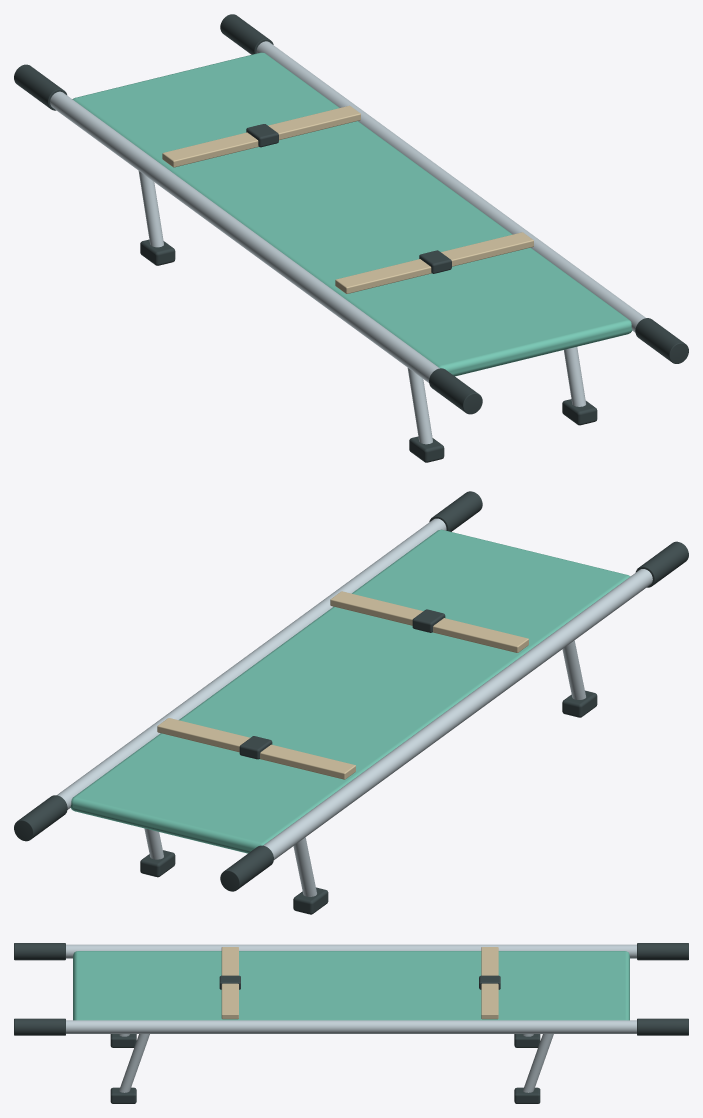
Rendered from rescue_stretcher.glb.
The picture shows the model from 3 angles, top to bottom: view 1: azimuth 30°, elevation 25°; view 2: azimuth 150°, elevation 25°; view 3: azimuth 270°, elevation 25°; orthographic projection. The views are drawn at different scales.
Visible parts, largest first — view 1: Fabric_Bed, Carry_Rail, Carry_Rail_2, Safety_Belt, Safety_Belt_2, Belt_Half, Belt_Half_2, Handle_Grip_2, Handle_Grip_4, Handle_Grip, Handle_Grip_3, Folding_Leg (+2 smaller); view 2: Fabric_Bed, Carry_Rail, Carry_Rail_2, Safety_Belt, Safety_Belt_2, Belt_Half_2, Belt_Half, Handle_Grip, Handle_Grip_3, Handle_Grip_2, Handle_Grip_4, Folding_Leg (+4 smaller); view 3: Fabric_Bed, Carry_Rail_2, Carry_Rail, Handle_Grip_3, Handle_Grip_4, Handle_Grip, Handle_Grip_2, Folding_Leg_2, Folding_Leg_4, Belt_Half, Belt_Half_2, Safety_Belt (+5 smaller).
Boxes of the visible parts, x1,y1,x2,y2 form: Fabric_Bed: [72, 52, 632, 376]; Carry_Rail: [50, 91, 439, 382]; Carry_Rail_2: [256, 41, 645, 332]; Safety_Belt: [162, 132, 258, 167]; Safety_Belt_2: [335, 259, 431, 293]; Belt_Half: [268, 105, 360, 139]; Belt_Half_2: [441, 232, 533, 266]; Handle_Grip_2: [429, 368, 482, 414]; Handle_Grip_4: [635, 318, 688, 363]; Handle_Grip: [14, 64, 66, 110]; Handle_Grip_3: [220, 14, 273, 54]; Folding_Leg: [138, 171, 163, 247]; Fabric_Bed: [70, 529, 630, 853]; Carry_Rail: [263, 569, 652, 859]; Carry_Rail_2: [57, 518, 446, 809]; Safety_Belt: [260, 744, 355, 779]; Safety_Belt_2: [432, 618, 528, 652]; Belt_Half_2: [330, 591, 423, 625]; Belt_Half: [157, 718, 250, 752]; Handle_Grip: [220, 845, 273, 891]; Handle_Grip_3: [14, 795, 67, 841]; Handle_Grip_2: [635, 541, 688, 587]; Handle_Grip_4: [429, 491, 482, 531]; Folding_Leg: [293, 837, 316, 896]; Fabric_Bed: [73, 951, 629, 1020]; Carry_Rail_2: [66, 1020, 636, 1033]; Carry_Rail: [66, 944, 636, 958]; Handle_Grip_3: [637, 1018, 688, 1035]; Handle_Grip_4: [14, 1018, 65, 1035]; Handle_Grip: [637, 943, 688, 960]; Handle_Grip_2: [14, 943, 65, 960]; Folding_Leg_2: [523, 1034, 553, 1092]; Folding_Leg_4: [119, 1034, 149, 1092]; Belt_Half: [481, 983, 498, 1019]; Belt_Half_2: [221, 983, 238, 1019]; Safety_Belt: [481, 947, 498, 975].
Size of the model in its own units: 0.68 by 0.365 by 2.34.
